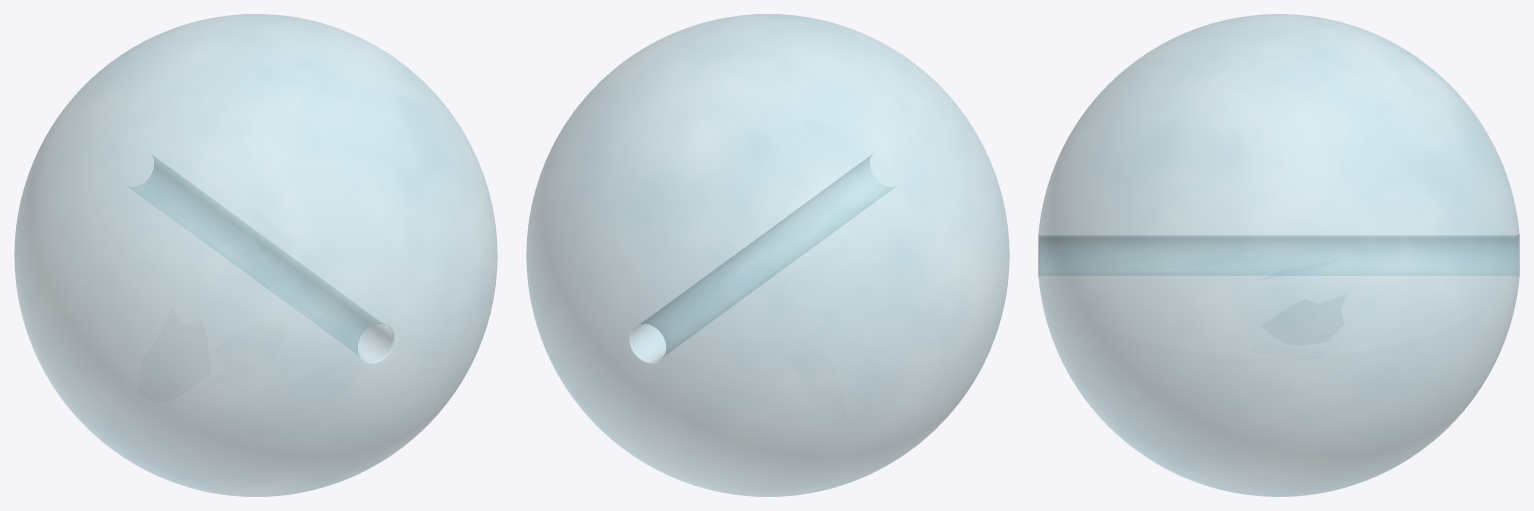
File: aquamarine-12mm.glb
3 renders of one model, left to right at view 1: azimuth 30°, elevation 25°; view 2: azimuth 150°, elevation 25°; view 3: azimuth 270°, elevation 25°, orthographic.
Parts seen in each view (by area): view 1: aquamarine.001; view 2: aquamarine.001; view 3: aquamarine.001.
Part boxes in pixels (left/top/right/bottom): aquamarine.001: left=14, top=14, right=497, bottom=496; aquamarine.001: left=526, top=14, right=1009, bottom=496; aquamarine.001: left=1038, top=14, right=1519, bottom=496.
Bounding box in the file's own units: 0.012 × 0.012 × 0.012.
Materials: 2 (1 with a texture image).
